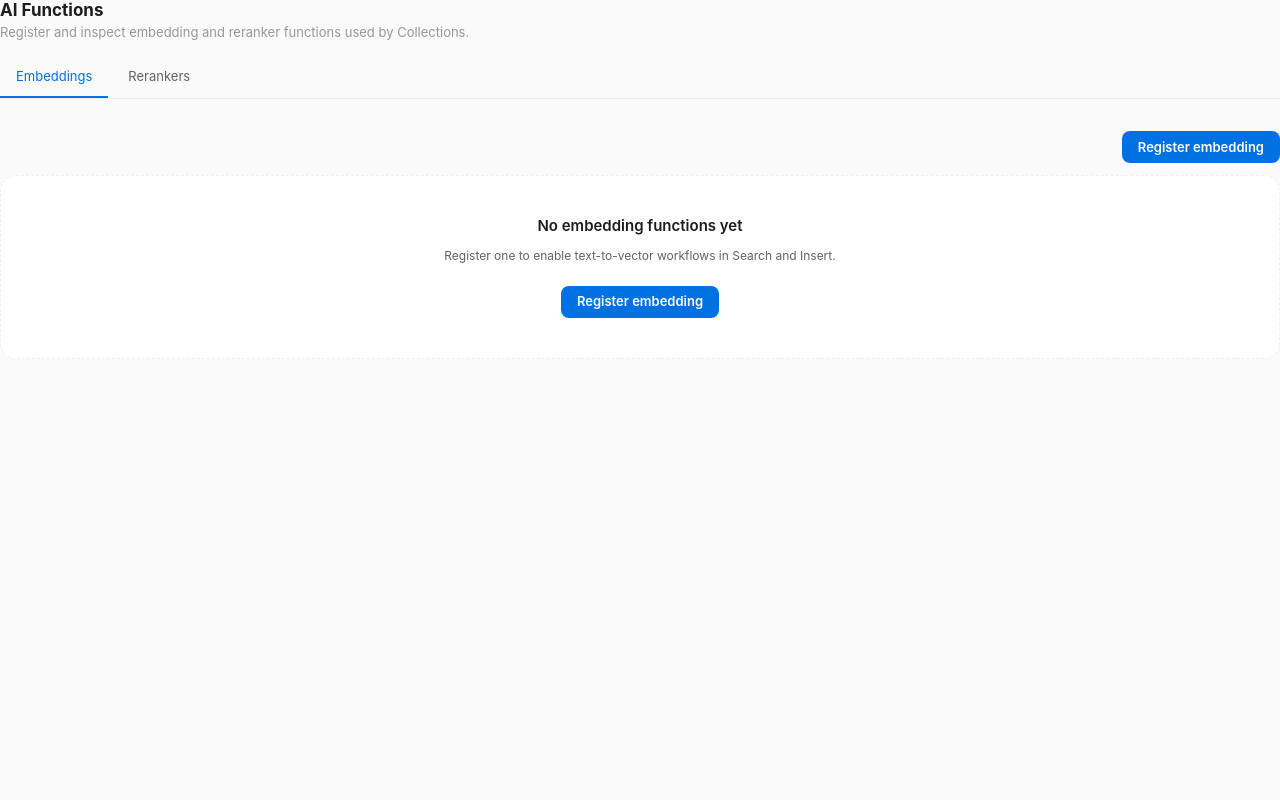
Test: AiFunctionsPage › creates an embedding function and refreshes the list
The image size is (1280, 800).
Expected: the message with test id "zv-ai-emb-empty" is shown, [0,175,1279,359]
Click the button with test id "zv-ai-emb-create" at (1201, 147), box [1122,131,1279,163]
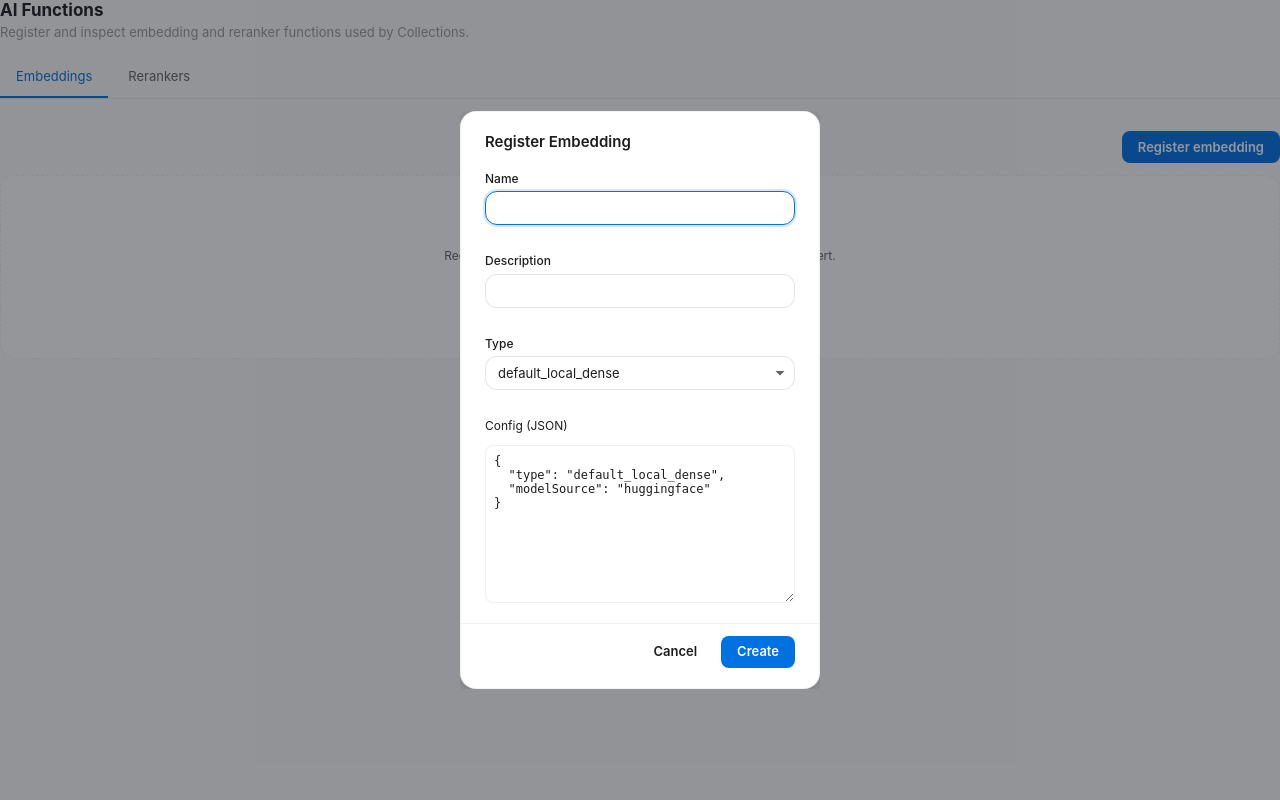
Type "my-emb" into the field with test id "zv-ai-emb-name" at (640, 208), box [485,191,795,225]
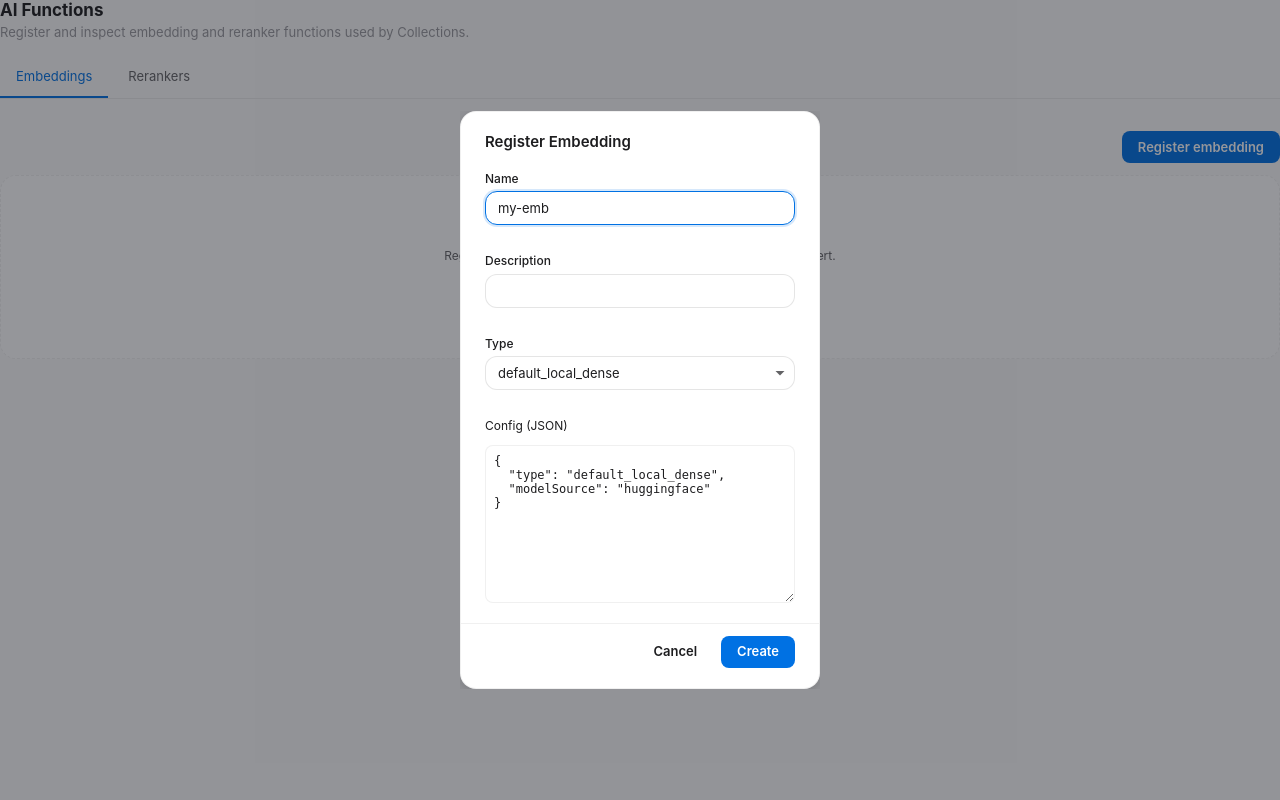
Click the button with test id "zv-ai-emb-create-submit" at (758, 652), box [721,636,795,668]
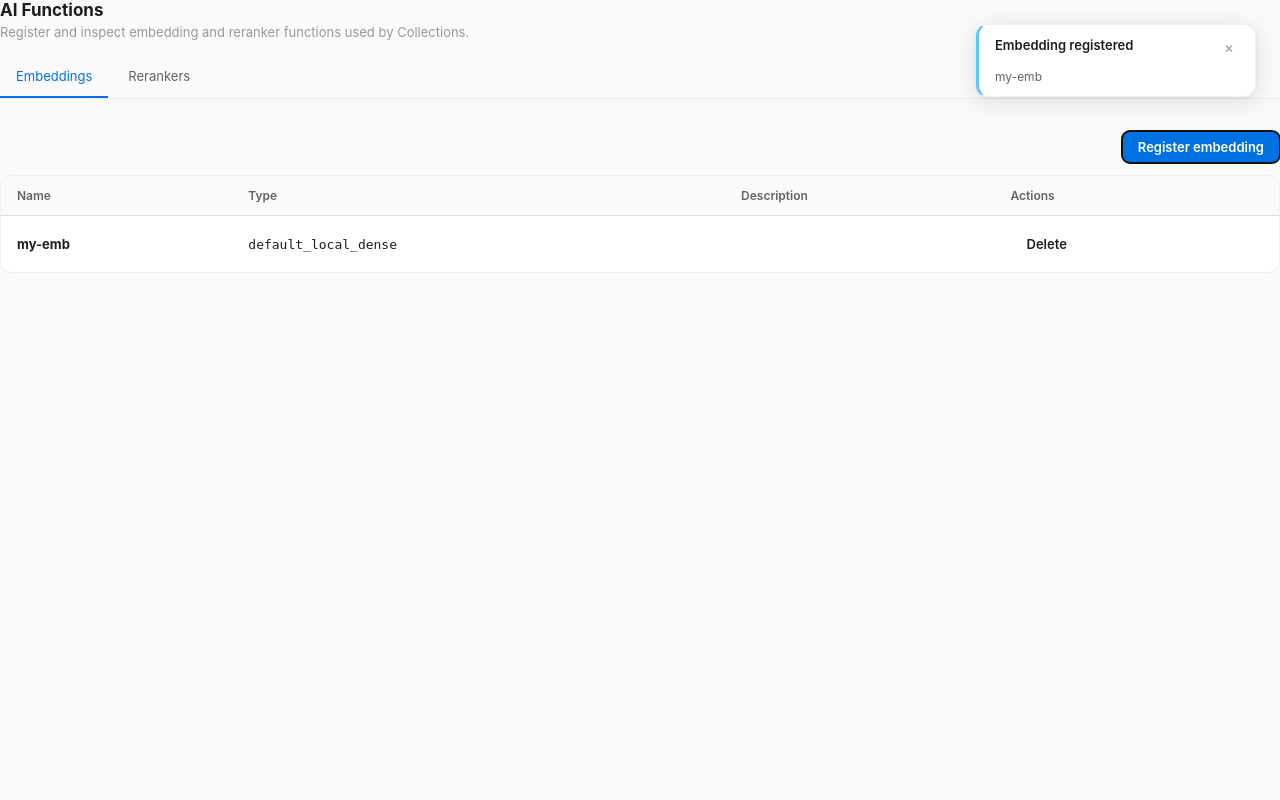
Now the element with test id "zv-ai-emb-table" is shown, box [0,175,1279,273]
Now the text with test id "zv-ai-emb-name-my-emb" reads "my-emb", box [17,236,70,252]
